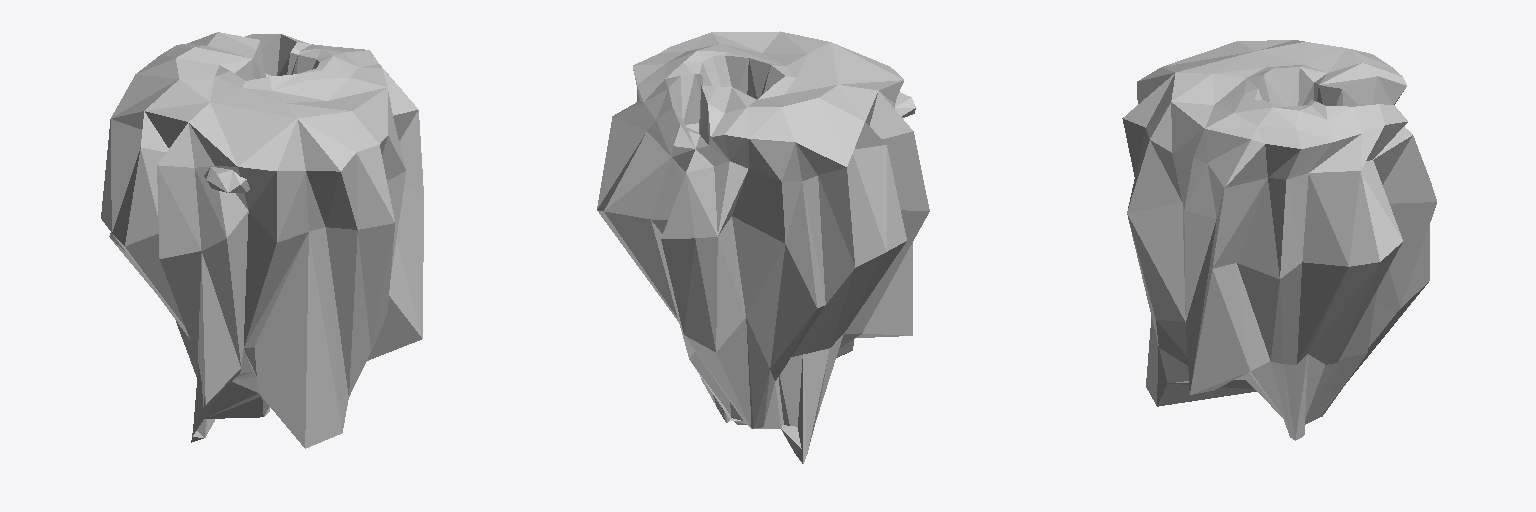
The model's file is FlyingRock.obj.
3 renders of one model, left to right at view 1: azimuth 30°, elevation 25°; view 2: azimuth 150°, elevation 25°; view 3: azimuth 270°, elevation 25°, orthographic.
Visible parts, largest first — view 1: FlyingRock; view 2: FlyingRock; view 3: FlyingRock.
Part boxes in pixels (x1,y1,x2,y2): FlyingRock: (101, 32, 423, 448); FlyingRock: (597, 31, 929, 463); FlyingRock: (1122, 40, 1436, 440).
Size of the model in its own units: 3.36 by 4.41 by 3.39.